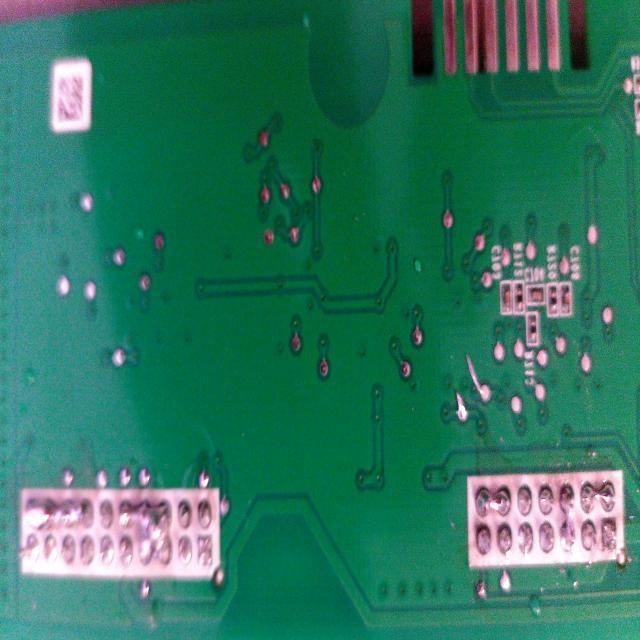Soldering shorted: (116, 496, 172, 567), (23, 498, 99, 536), (470, 478, 514, 517), (583, 476, 619, 512), (560, 481, 577, 554)
